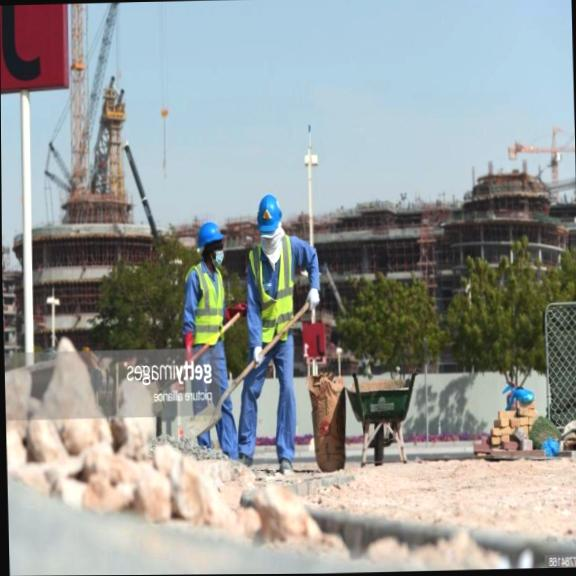safety_vest: (253, 237, 297, 347), (191, 262, 225, 345)
